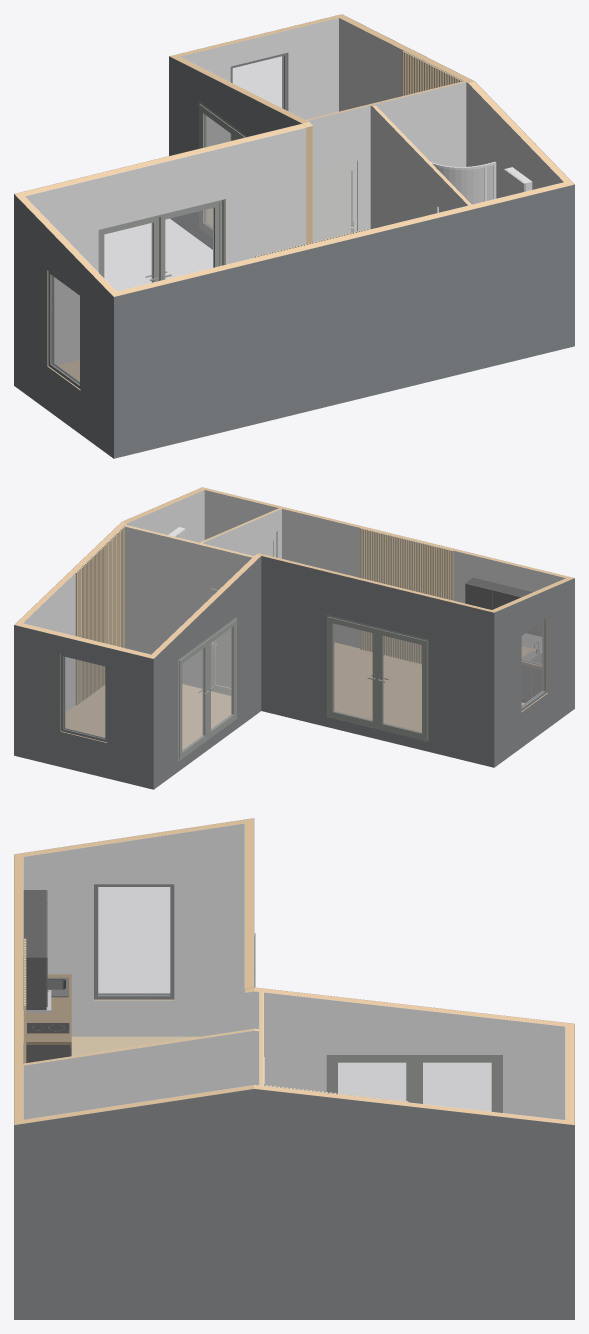
The model's file is Airija_Quinlan_(7,0x8,0m)_R02.fbx.
3 renders of one model, top to bottom at view 1: azimuth 30°, elevation 25°; view 2: azimuth 150°, elevation 25°; view 3: azimuth 270°, elevation 25°, orthographic. The views are drawn at different scales.
Parts seen in each view (by area): view 1: IfcWall/Part:2410302, IfcWall/Part:2412014, IfcWall/Part:2410299, IfcWall/Part:2410304, IfcDoor/WINDSOR Door Double Casement Signature:Double-Casem, IfcWall/Part:2410307, IfcWall/Part:2437334, IfcWall/Part:2446417, IfcWall/Part:2437067, IfcWall/Part:2437598, IfcDoor/Interior door:800x2100mm (right sided):2437654, IfcWindow/Windows akrusta:1600x1000 (left sided):2373371 (+10 smaller); view 2: IfcWall/Part:2412015, IfcWall/Part:2410308, IfcWall/Part:2410301, IfcDoor/WINDSOR Door Double Casement Signature:Double-Casem, IfcWall/Part:2437068, IfcWall/Part:2410299, IfcWall/Part:2446417, IfcSlab/Part:2410310, IfcDoor/WINDSOR Door Double Casement Signature:Double-Caseme, IfcWall/Part:2410304, IfcWindow/Windows akrusta:1600x1000 (right sided):2374711, IfcWindow/Windows akrusta:1600x1000 (left sided):2373371 (+11 smaller); view 3: IfcWall/Part:2410305, IfcWall/Part:2410298, IfcWall/Part:2446416, IfcWall/Part:2437333, IfcWindow/Windows akrusta:1600x1000 (left sided):2373371, IfcDoor/WINDSOR Door Double Casement Signature:Double-Caseme, IfcWall/Part:2410303, IfcWall/Part:2410306, IfcFurnishingElement/Virtuvinė spintelė (pakabinama):600mm (, IfcDoor/Interior door:800x2100mm (left sided):2437741, IfcFurnishingElement/Countertop1:Countertop:2446719, IfcWall/Part:2412016 (+6 smaller).
Boxes of the visible parts, x1,y1,x2,y2 form: IfcWall/Part:2410302: (113, 184, 574, 458); IfcWall/Part:2412014: (25, 127, 306, 365); IfcWall/Part:2410299: (14, 194, 113, 458); IfcWall/Part:2410304: (339, 18, 563, 198); IfcDoor/WINDSOR Door Double Casement Signature:Double-Casem: (98, 199, 224, 290); IfcWall/Part:2410307: (180, 18, 338, 146); IfcWall/Part:2437334: (370, 105, 468, 229); IfcWall/Part:2446417: (169, 56, 305, 249); IfcWall/Part:2437067: (374, 82, 466, 166); IfcWall/Part:2437598: (300, 105, 370, 230); IfcDoor/Interior door:800x2100mm (right sided):2437654: (313, 157, 360, 242); IfcWindow/Windows akrusta:1600x1000 (left sided):2373371: (48, 271, 80, 389); IfcWall/Part:2412015: (261, 556, 493, 767); IfcWall/Part:2410308: (14, 625, 153, 789); IfcWall/Part:2410301: (204, 490, 565, 662); IfcDoor/WINDSOR Door Double Casement Signature:Double-Casem: (326, 614, 428, 741); IfcWall/Part:2437068: (124, 526, 251, 688); IfcWall/Part:2410299: (494, 578, 574, 767); IfcWall/Part:2446417: (154, 555, 262, 789); IfcSlab/Part:2410310: (65, 642, 524, 749); IfcDoor/WINDSOR Door Double Casement Signature:Double-Caseme: (178, 617, 236, 761); IfcWall/Part:2410304: (23, 490, 204, 711); IfcWindow/Windows akrusta:1600x1000 (right sided):2374711: (61, 654, 107, 742); IfcWindow/Windows akrusta:1600x1000 (left sided):2373371: (521, 616, 547, 711); IfcWall/Part:2410305: (14, 1089, 574, 1319); IfcWall/Part:2410298: (23, 823, 244, 1036); IfcWall/Part:2446416: (245, 991, 565, 1119); IfcWall/Part:2437333: (23, 1030, 259, 1119); IfcWindow/Windows akrusta:1600x1000 (left sided):2373371: (94, 884, 174, 999); IfcDoor/WINDSOR Door Double Casement Signature:Double-Caseme: (326, 1055, 502, 1112); IfcWall/Part:2410303: (14, 853, 23, 1121); IfcWall/Part:2410306: (14, 1085, 565, 1124); IfcFurnishingElement/Virtuvinė spintelė (pakabinama):600mm (: (23, 937, 51, 1012); IfcDoor/Interior door:800x2100mm (left sided):2437741: (33, 1090, 102, 1118); IfcFurnishingElement/Countertop1:Countertop:2446719: (23, 974, 71, 1044); IfcWall/Part:2412016: (245, 822, 253, 988).
Bounding box in the file's own units: 800 × 318 × 700.
